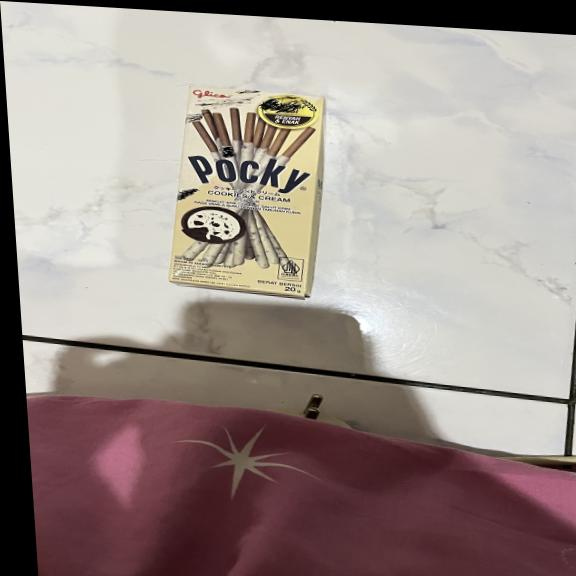Kertas: (154, 84, 336, 298)
